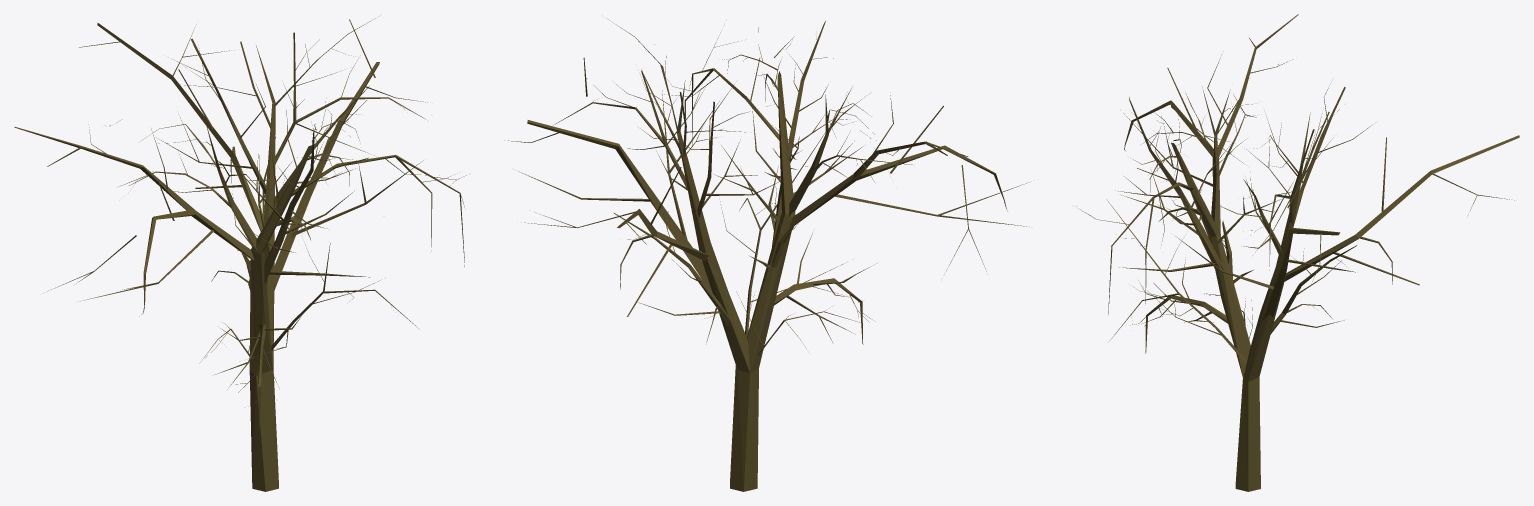
The model's file is shorter tree.fbx.
3 renders of one model, left to right at view 1: azimuth 30°, elevation 25°; view 2: azimuth 150°, elevation 25°; view 3: azimuth 270°, elevation 25°, orthographic. The views are drawn at different scales.
Parts seen in each view (by area): view 1: tree.167; view 2: tree.167; view 3: tree.167.
Boxes of the visible parts, bbox=[...] form: tree.167: bbox=[14, 18, 466, 491]; tree.167: bbox=[508, 19, 1029, 491]; tree.167: bbox=[1080, 14, 1519, 491].
Size of the model in its own units: 615 by 580 by 586.
